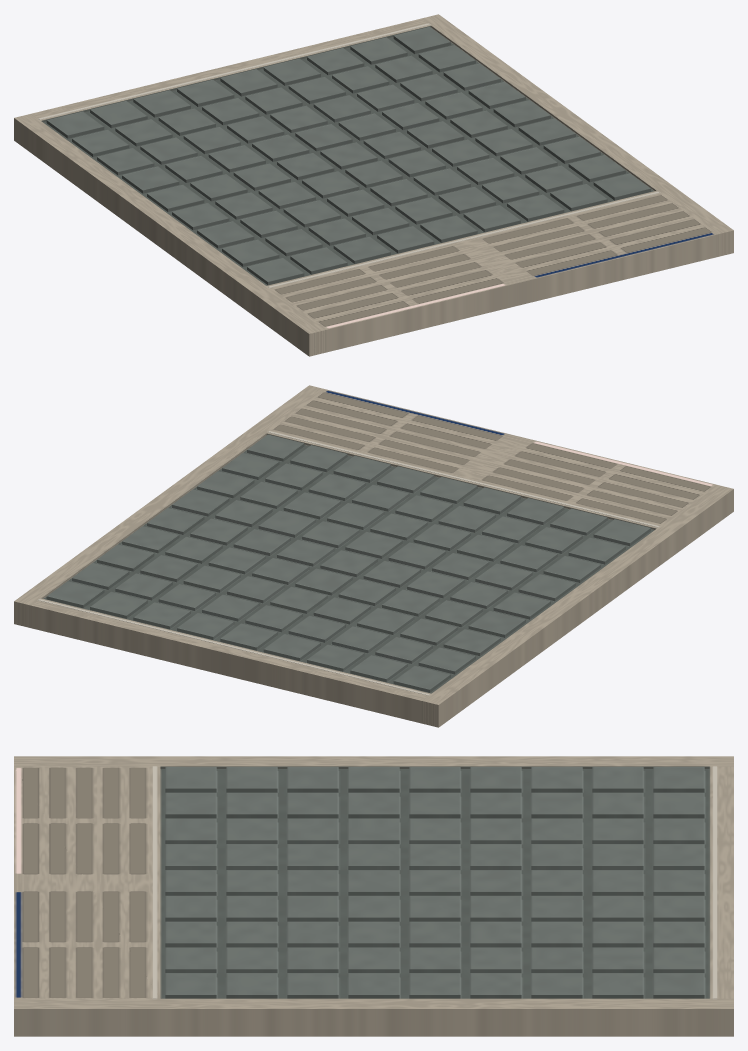
Rendered from board_modern.glb.
The picture shows the model from 3 angles, top to bottom: view 1: azimuth 30°, elevation 25°; view 2: azimuth 150°, elevation 25°; view 3: azimuth 270°, elevation 25°; orthographic projection. The views are drawn at different scales.
Visible parts, largest first — view 1: board_modern; view 2: board_modern; view 3: board_modern.
Part boxes in pixels (left/top/right/bottom): board_modern: left=14, top=14, right=733, bottom=356; board_modern: left=14, top=385, right=733, bottom=727; board_modern: left=14, top=756, right=733, bottom=1036.
Bounding box in the file's own units: 0.49 × 0.0265 × 0.59.
Materials: 3 (2 with a texture image).
